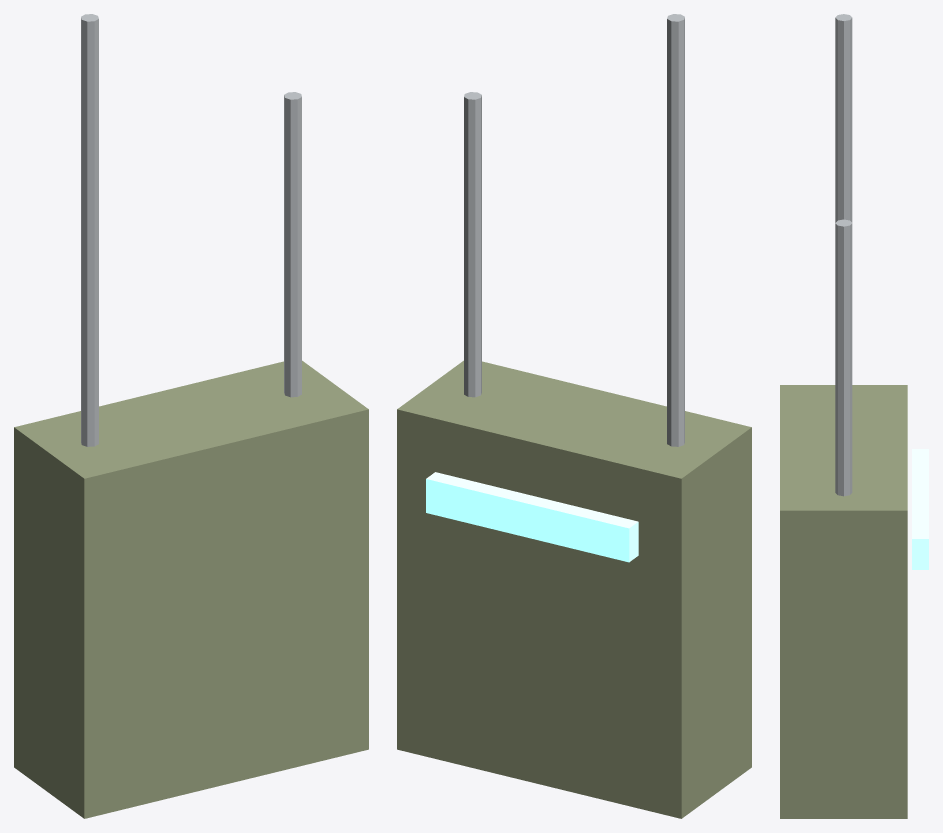
File: mech-hangar-and-battle-frames-communications-pack-169c7f6a__26917.glb
3 renders of one model, left to right at view 1: azimuth 30°, elevation 25°; view 2: azimuth 150°, elevation 25°; view 3: azimuth 270°, elevation 25°, orthographic. The views are drawn at different scales.
Parts seen in each view (by area): view 1: communications-pack; view 2: communications-pack; view 3: communications-pack.
Boxes of the visible parts, x1,y1,x2,y2 form: communications-pack: (14,14,368,818); communications-pack: (397,14,751,818); communications-pack: (780,14,928,818).
Size of the model in its own units: 0.7 by 1.8 by 0.35.
